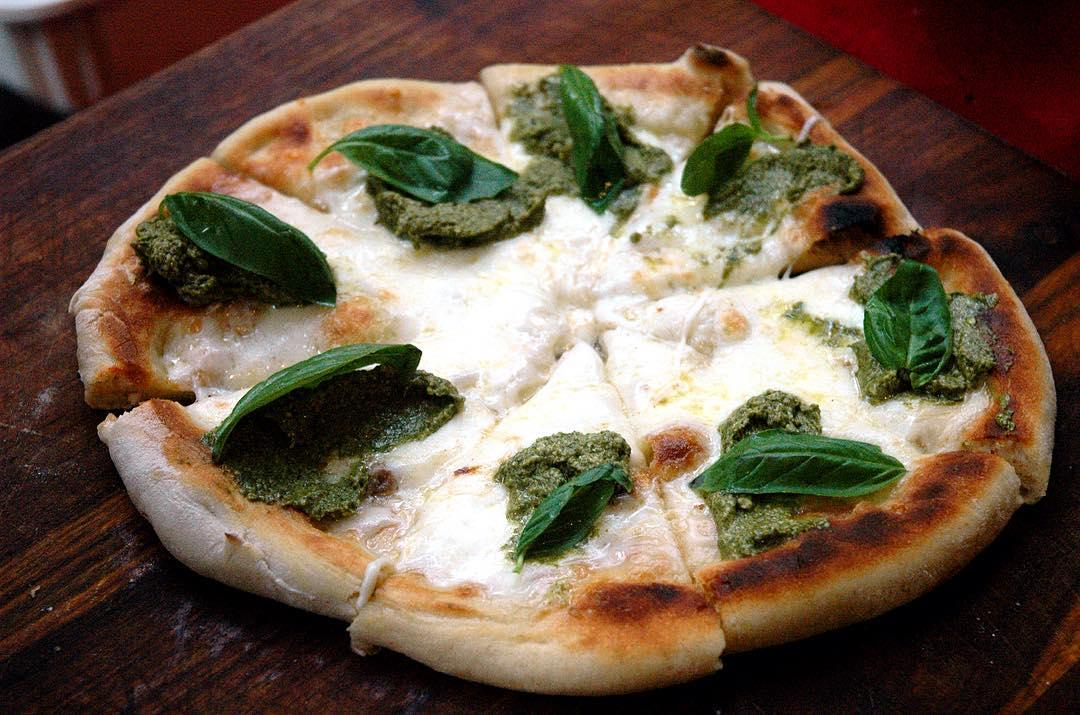Basil: (202, 336, 427, 466), (157, 183, 341, 312), (308, 118, 523, 206), (694, 429, 913, 507), (854, 250, 961, 392), (672, 85, 796, 206), (544, 61, 638, 215), (511, 460, 636, 572)
Cheese: (449, 264, 745, 400)
Pizza: (63, 36, 1080, 697)
